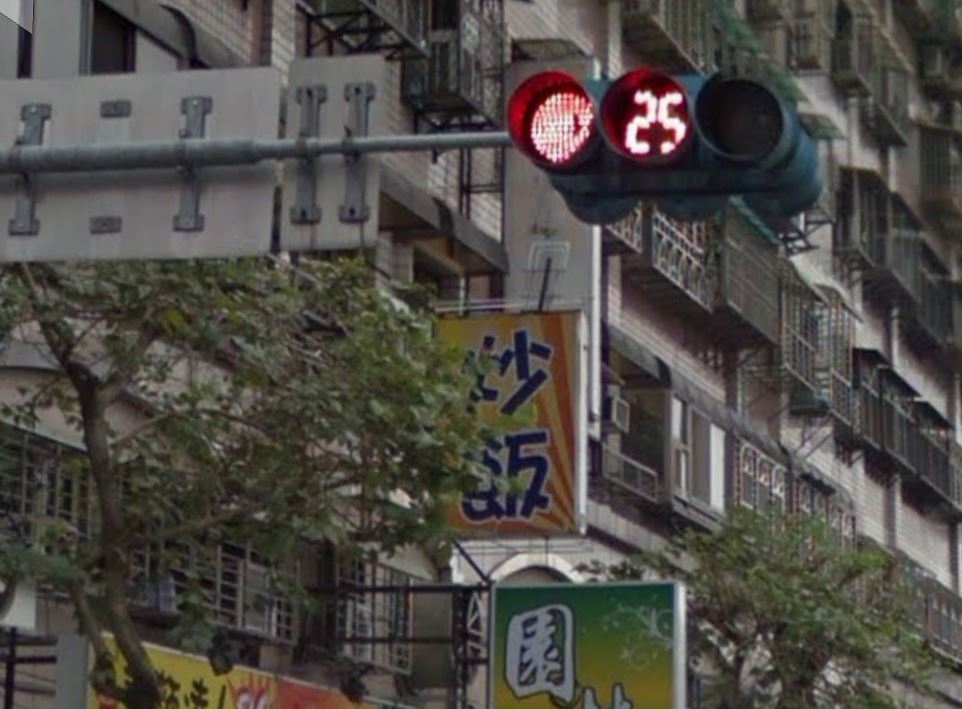Traffic_light_red: (505, 70, 801, 177)
